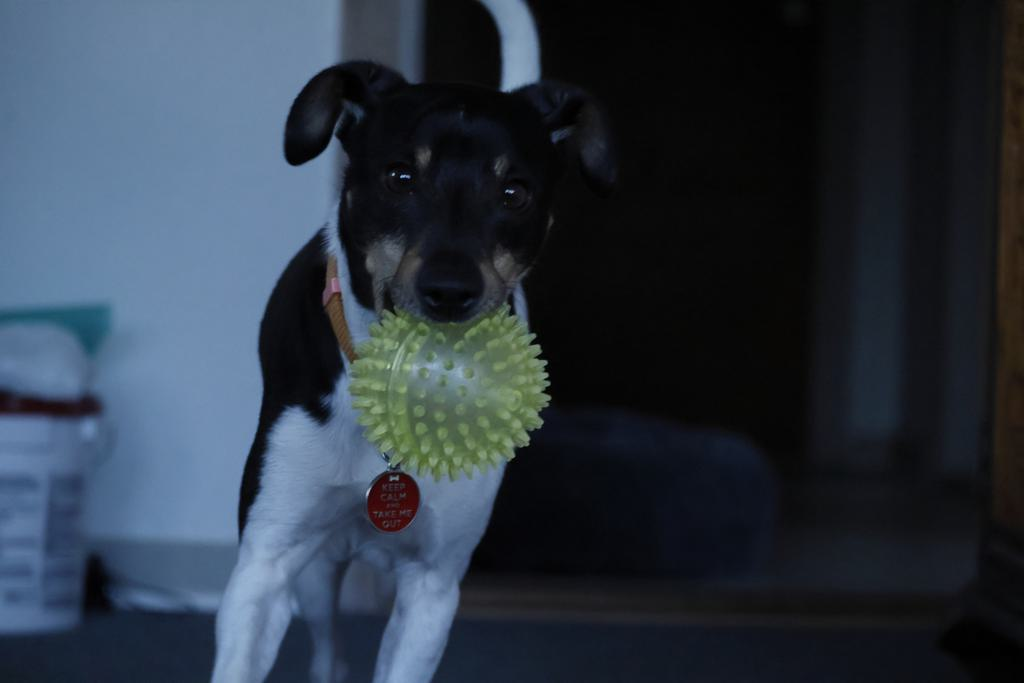Dog: (181, 0, 626, 683)
